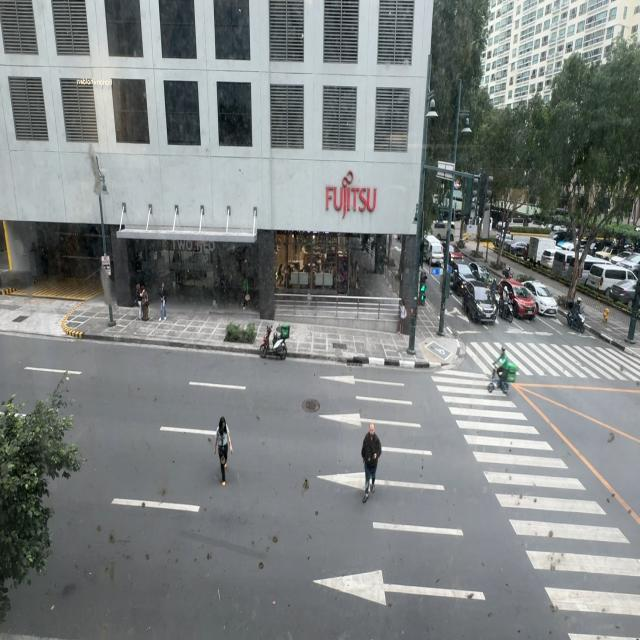jaywalking: (212, 406, 237, 501), (358, 418, 380, 497)
pedestrain: (159, 281, 167, 321), (397, 299, 405, 335)
